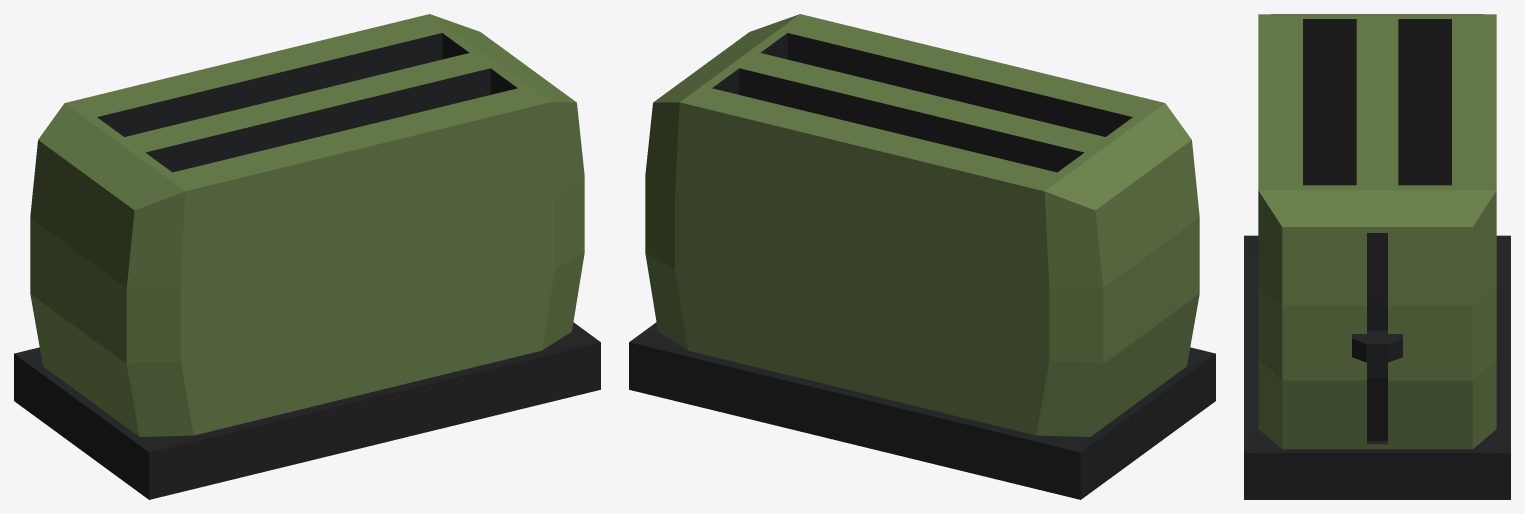
The model's file is toasteroawl_01_B.gltf.
3 views of the same model, side by side, from view 1: azimuth 30°, elevation 25°; view 2: azimuth 150°, elevation 25°; view 3: azimuth 270°, elevation 25° (orthographic).
Visible parts, largest first — view 1: toasteroawl_01_B; view 2: toasteroawl_01_B; view 3: toasteroawl_01_B, Switchfortoasteroawl_01_B.
Part boxes in pixels (x1,y1,x2,y2): toasteroawl_01_B: (14, 14, 600, 499); toasteroawl_01_B: (629, 14, 1215, 499); toasteroawl_01_B: (1244, 14, 1510, 499); Switchfortoasteroawl_01_B: (1352, 330, 1402, 362).
Size of the model in its own units: 0.3437 by 0.2007 by 0.1679.
Materials: 1 (1 with a texture image).
